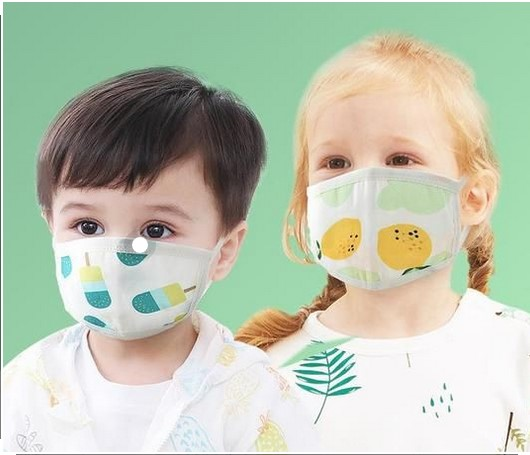face_with_mask: (43, 73, 246, 342), (302, 40, 494, 284)
